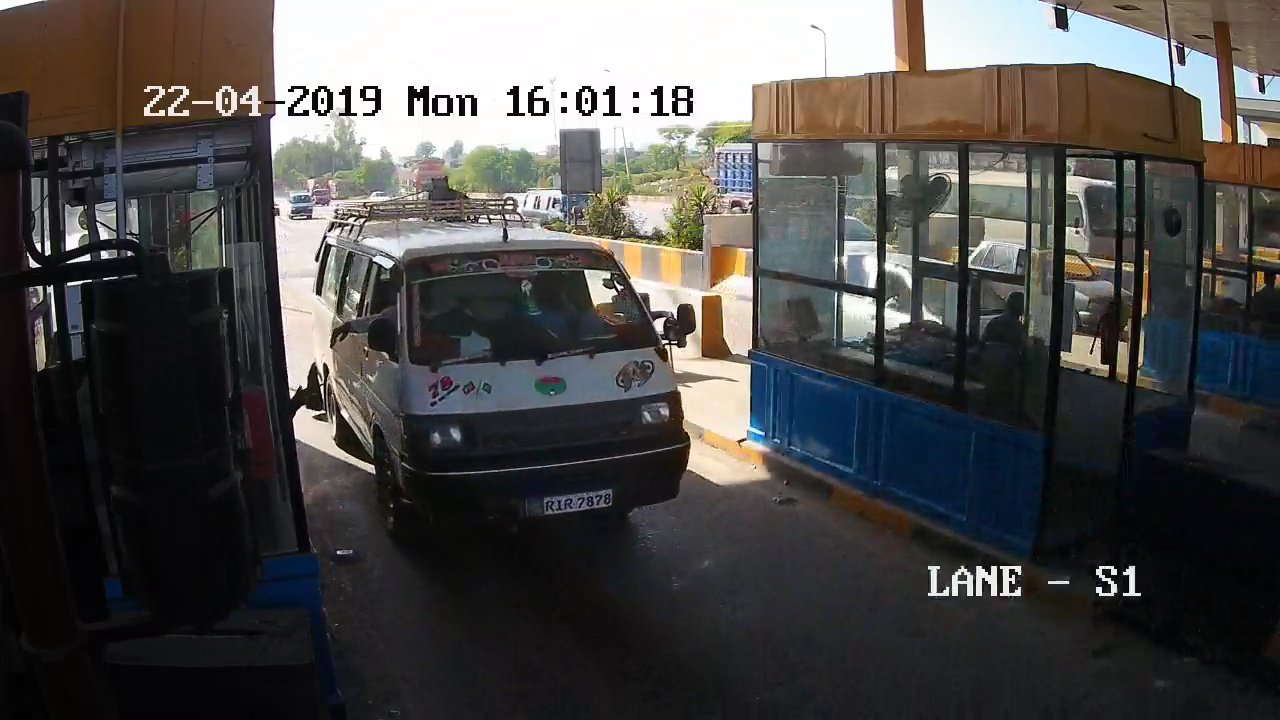Number Plate (Car): (522, 491, 614, 512)
